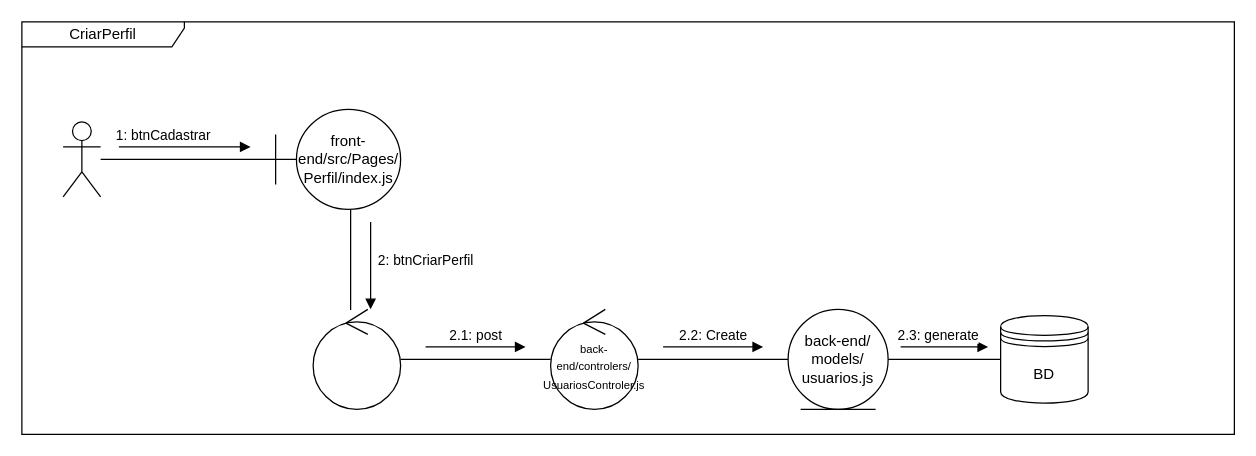
This 1256x456 diagram has some shape labels left out. The box of each missing label's shape, as (x1, y1, x2, y2) in pixels:
routes.js: (312, 308, 401, 409)
Usuário: (62, 121, 101, 197)
